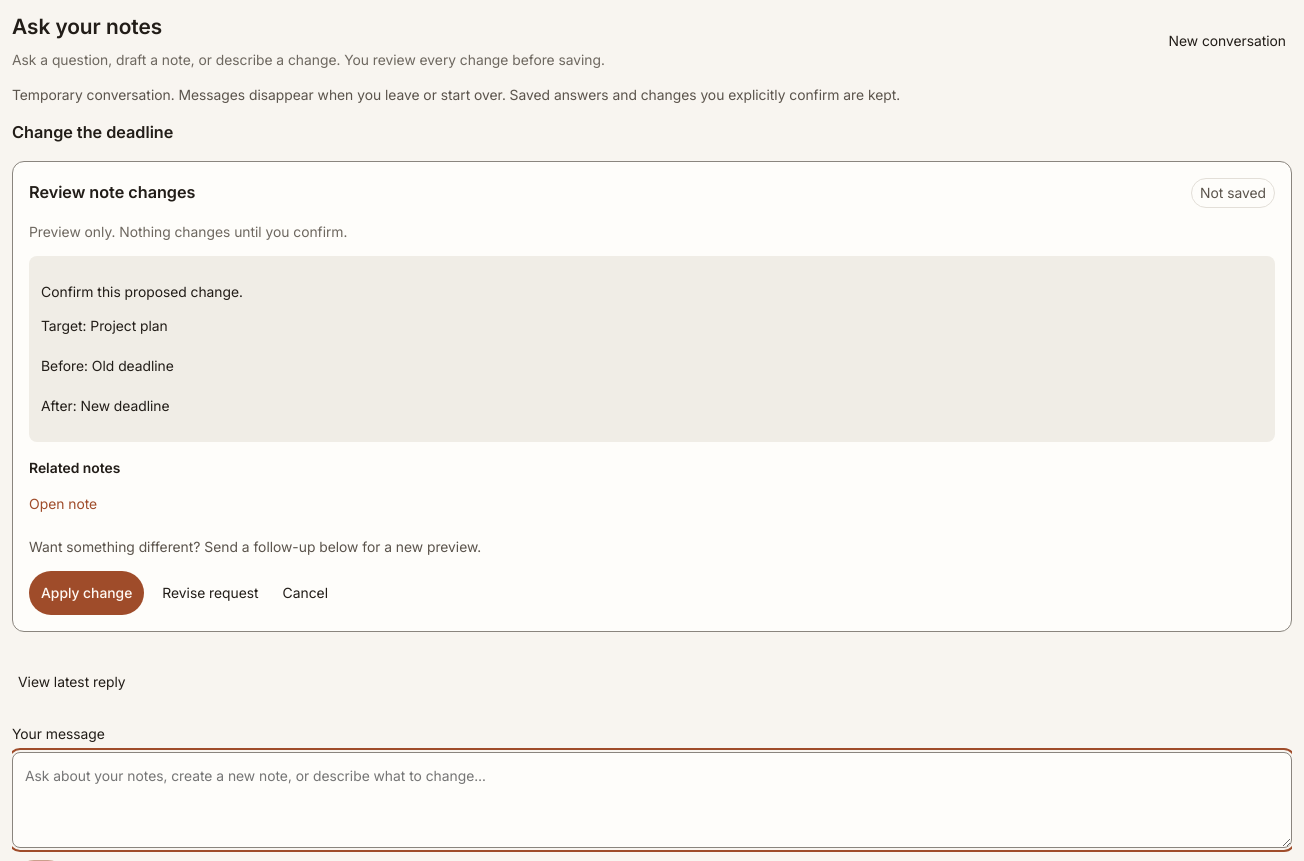
Test: shows the target and full preview without writes, then explicitly confirms Apply change and offers guarded Undo
The image size is (1304, 861).
Check: the text "Target: Project plan" shows "Before: Old deadline", box x1=41 y1=317 x2=174 y2=414
Check: the text "Target: Project plan" shows "After: New deadline", box x1=41 y1=317 x2=174 y2=414
Click the button "Apply change" at (87, 593), box x1=29 y1=571 x2=144 y2=615
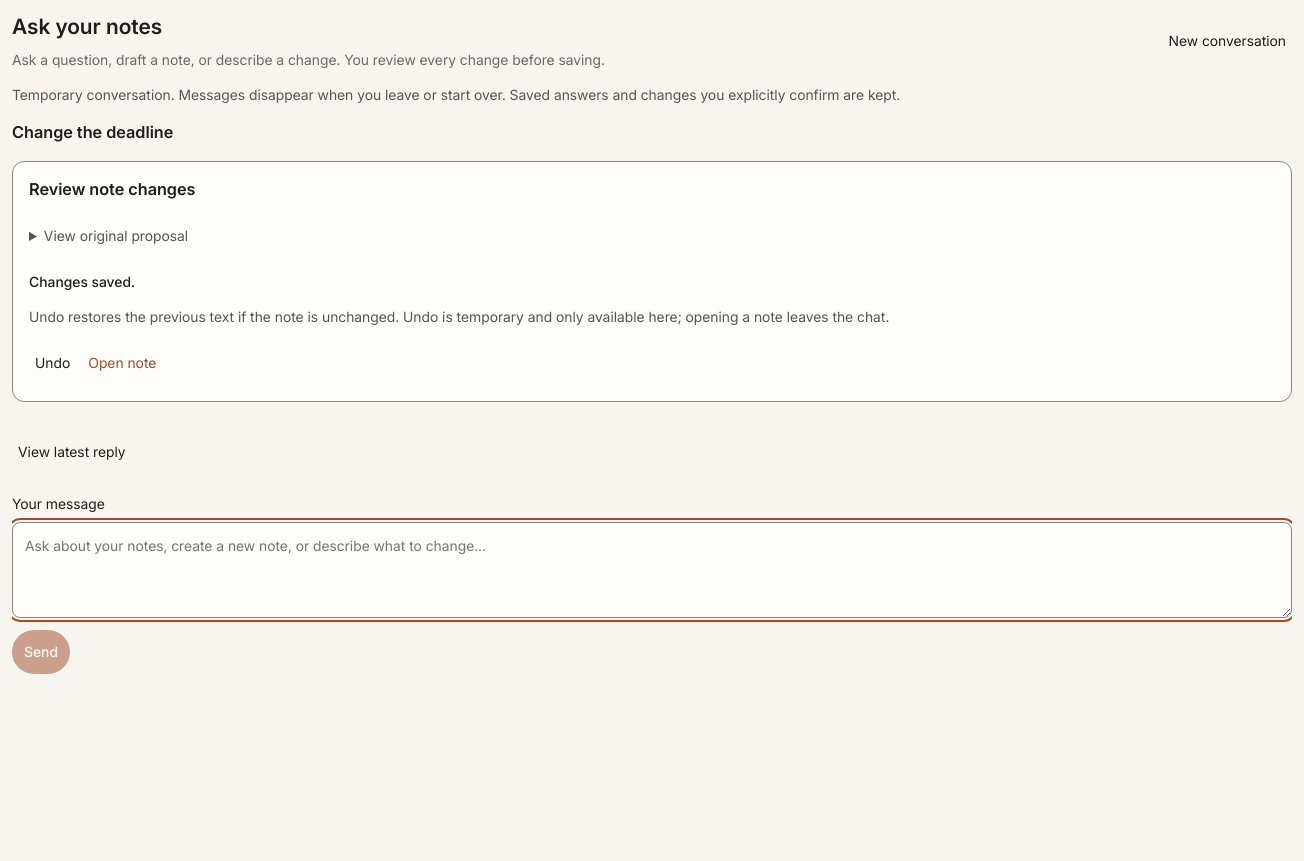
Check: the button "Undo" is shown
Click the button "Undo" at (53, 362), box x1=29 y1=340 x2=76 y2=384
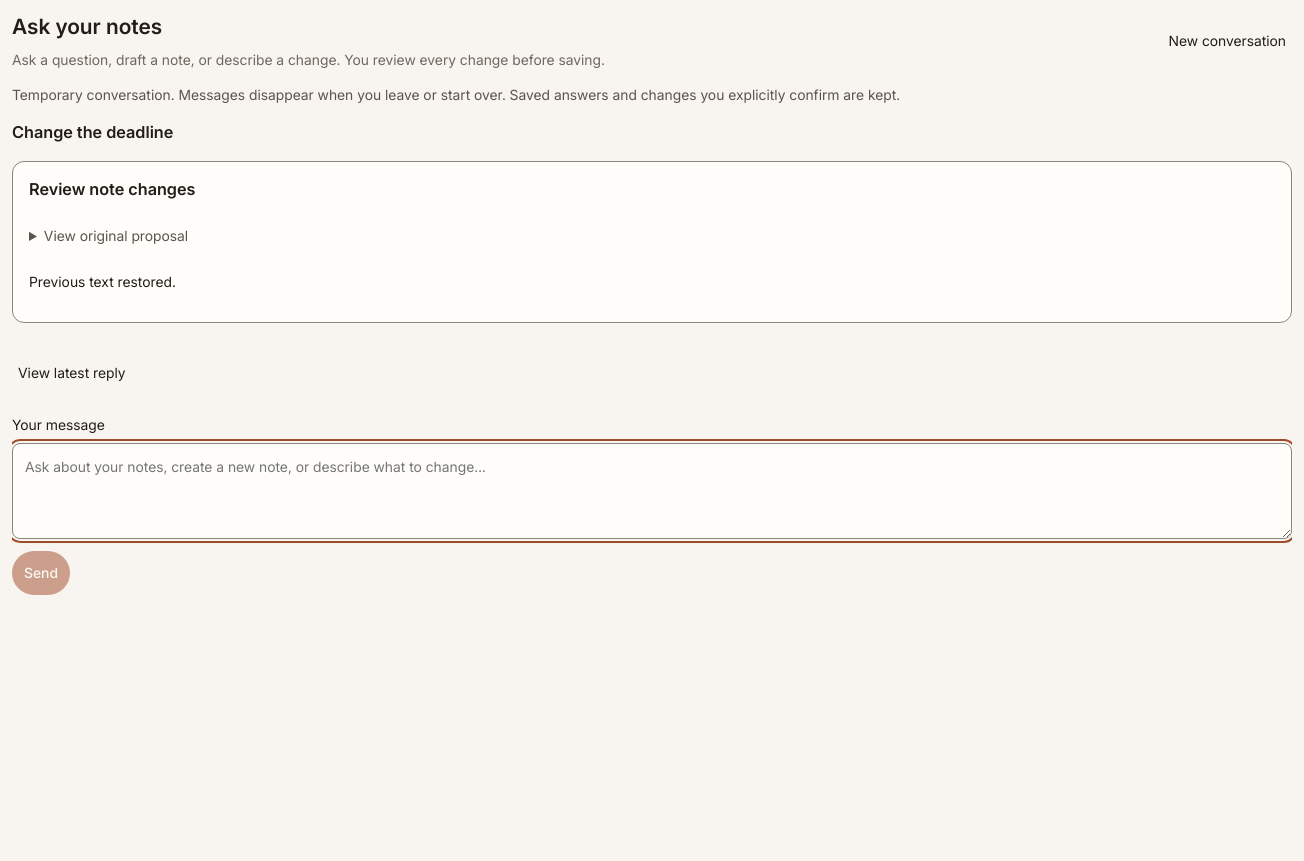
Check: the message reads "Previous text restored.", box x1=29 y1=272 x2=176 y2=290
Check: the text "Undo" is gone
